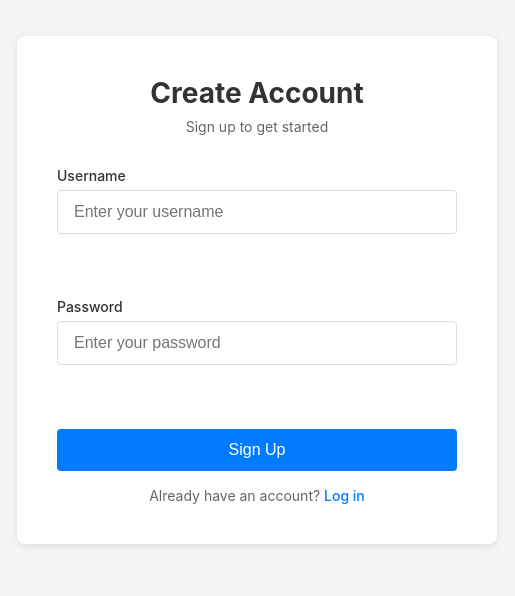
Scenario: Register Component › should display an API error message on failed registration
In the field labelled "Username": [257, 212] box [57,190,457,234], type "existinguser"
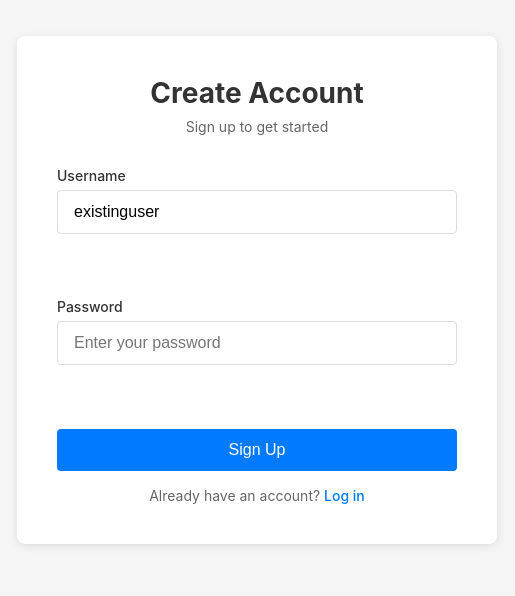
In the password field labelled "Password": [257, 343] box [57,321,457,365], type "password123"
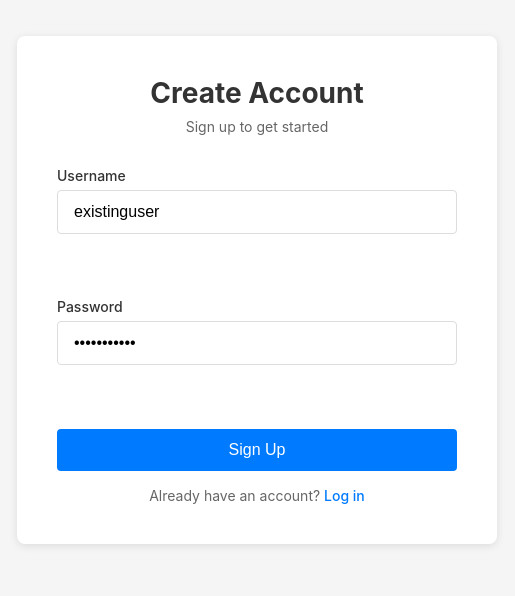
Click the button "Sign Up": [257, 450] box [57,429,457,471]
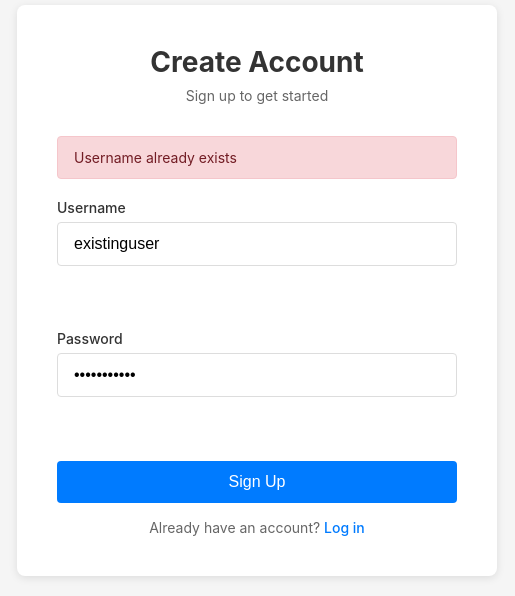
Now the text "Username already exists" is shown, box [57,136,457,178]
